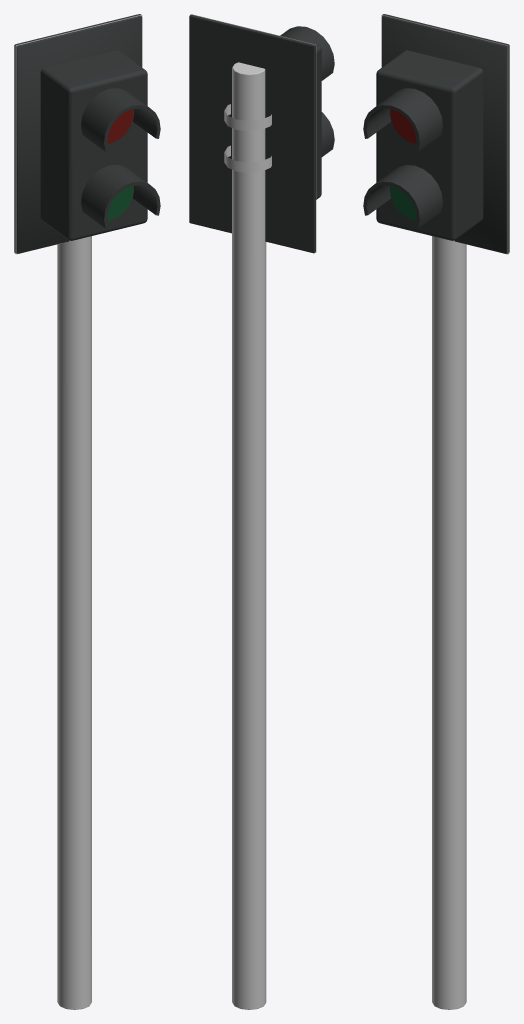
Rendered from rail.crossing.msl.glb.
The picture shows the model from 3 angles, left to right: view 1: azimuth 30°, elevation 25°; view 2: azimuth 150°, elevation 25°; view 3: azimuth 330°, elevation 25°; orthographic projection.
Parts seen in each view (by area): view 1: main__paint_333, main__galv_ccc, main__paint_eee, main__light_153, main__light_711; view 2: main__galv_ccc, main__paint_333, main__paint_eee; view 3: main__paint_333, main__galv_ccc, main__paint_eee, main__light_153, main__light_711.
Boxes of the visible parts, x1=… form: main__paint_333: x1=14, y1=14, x2=160, y2=253; main__galv_ccc: x1=57, y1=236, x2=91, y2=1009; main__paint_eee: x1=15, y1=14, x2=142, y2=254; main__light_153: x1=107, y1=186, x2=133, y2=220; main__light_711: x1=107, y1=109, x2=133, y2=143; main__galv_ccc: x1=224, y1=62, x2=271, y2=1009; main__paint_333: x1=189, y1=15, x2=334, y2=253; main__paint_eee: x1=190, y1=14, x2=316, y2=252; main__paint_333: x1=363, y1=14, x2=509, y2=253; main__galv_ccc: x1=432, y1=236, x2=466, y2=1009; main__paint_eee: x1=381, y1=14, x2=508, y2=254; main__light_153: x1=390, y1=186, x2=416, y2=220; main__light_711: x1=390, y1=109, x2=416, y2=143.
Size of the model in its own units: 0.38 by 2.8 by 0.365.
